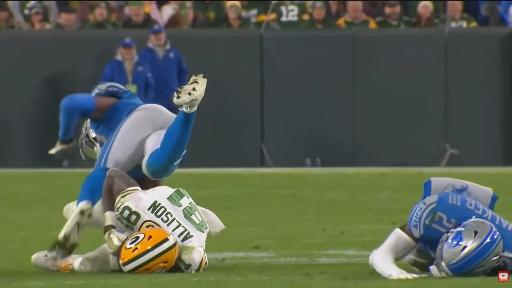Helmet: (435, 219, 502, 276), (119, 228, 179, 273), (79, 119, 100, 163)
Jersey: (115, 186, 208, 271), (408, 193, 511, 255), (91, 90, 142, 147)
Player: (49, 75, 206, 257), (32, 170, 224, 272), (370, 179, 511, 279)
